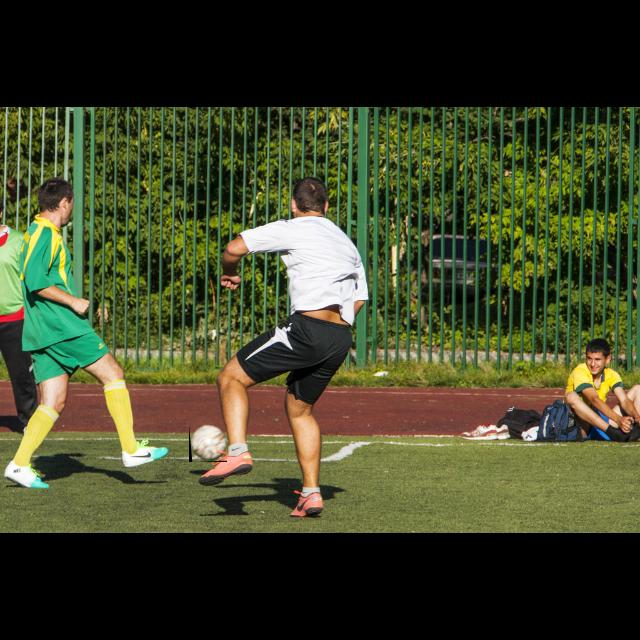Football: (189, 424, 227, 462)
